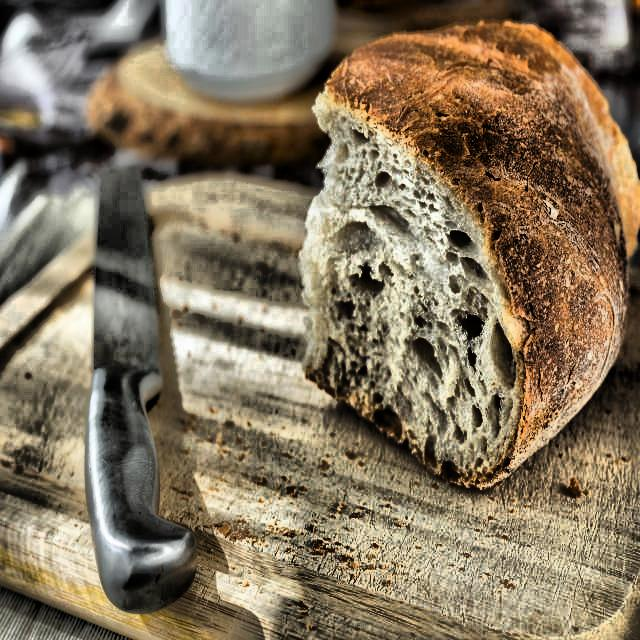knife: (85, 150, 206, 624)
